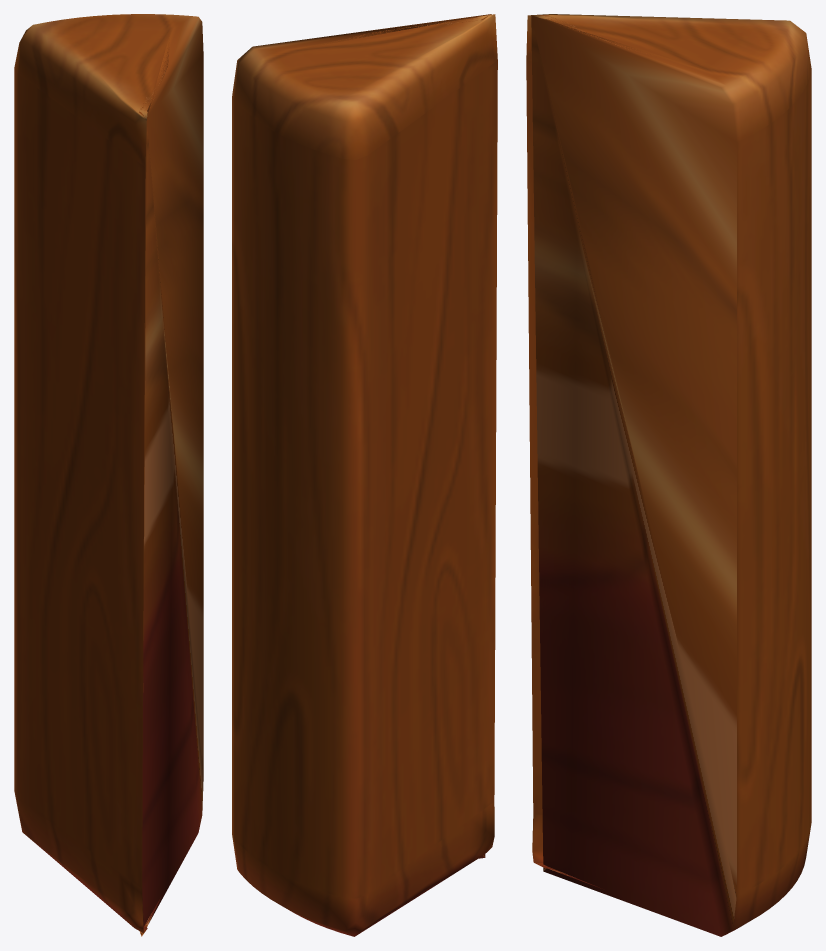
File: Corner.fbx
The picture shows the model from 3 angles, left to right: view 1: azimuth 30°, elevation 25°; view 2: azimuth 150°, elevation 25°; view 3: azimuth 270°, elevation 25°; orthographic projection. The views are drawn at different scales.
Parts seen in each view (by area): view 1: wall_corner.001; view 2: wall_corner.001; view 3: wall_corner.001.
Part boxes in pixels (<box>): wall_corner.001: <box>14,14,203,936</box>; wall_corner.001: <box>232,14,497,936</box>; wall_corner.001: <box>526,14,811,936</box>.
Bounding box in the file's own units: 0.3398 × 1.68 × 0.5069.
